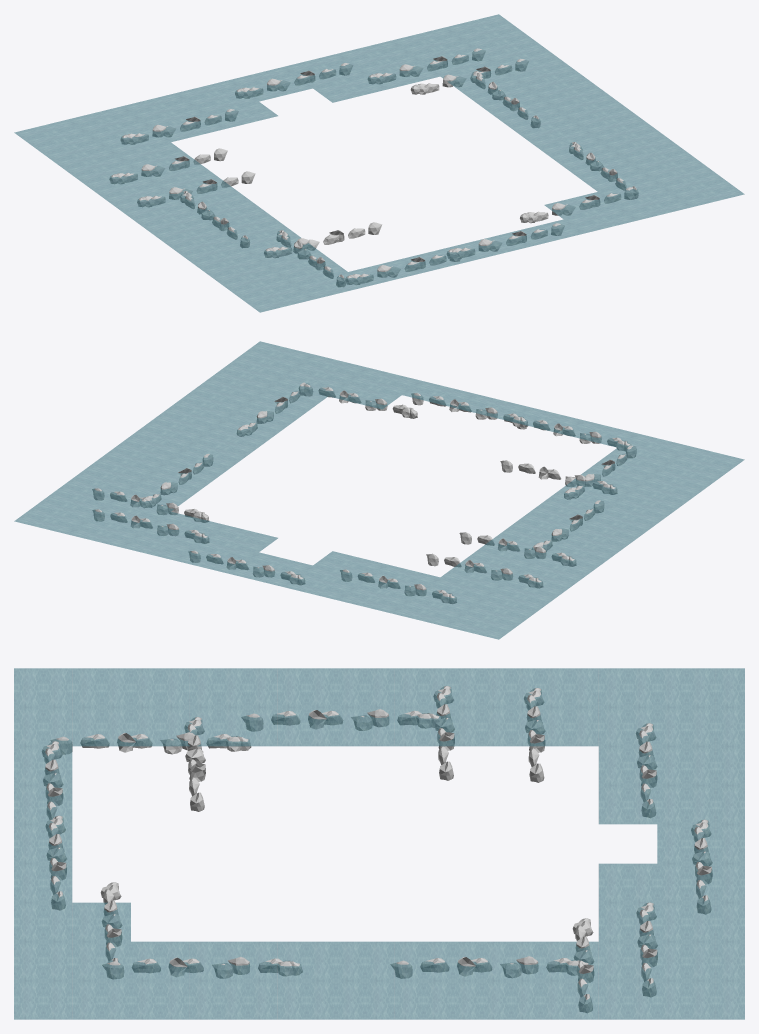
Rendered from jiujinshan_shui.fbx.
The picture shows the model from 3 angles, top to bottom: view 1: azimuth 30°, elevation 25°; view 2: azimuth 150°, elevation 25°; view 3: azimuth 270°, elevation 25°; orthographic projection. The views are drawn at different scales.
Visible parts, largest first — view 1: hengbing_1.017, hengbing_1.007, hengbing_1.008, hengbing_1.009, hengbing_1.010, hengbing_1.012, hengbing_1.005, hengbing_1.003, hengbing_1.006, hengbing_1.011, hengbing_1.004, hengbing_1.014 (+3 smaller); view 2: hengbing_1.017, hengbing_1.003, hengbing_1.007, hengbing_1.005, hengbing_1.006, hengbing_1.012, hengbing_1.010, hengbing_1.008, hengbing_1.009, hengbing_1.011, hengbing_1.004, hengbing_1.014 (+3 smaller); view 3: hengbing_1.017, hengbing_1.013, hengbing_1.015, hengbing_1.014, hengbing_1.016, hengbing_1.007, hengbing_1.010, hengbing_1.009, hengbing_1.003, hengbing_1.008, hengbing_1.006, hengbing_1.005 (+3 smaller).
Part boxes in pixels (left/top/right/bottom): hengbing_1.017: left=14, top=14, right=744, bottom=312; hengbing_1.007: left=109, top=148, right=227, bottom=183; hengbing_1.008: left=120, top=109, right=238, bottom=144; hengbing_1.009: left=235, top=63, right=352, bottom=98; hengbing_1.010: left=368, top=48, right=485, bottom=83; hengbing_1.012: left=520, top=187, right=637, bottom=223; hengbing_1.005: left=264, top=222, right=382, bottom=257; hengbing_1.003: left=447, top=223, right=564, bottom=258; hengbing_1.006: left=137, top=171, right=255, bottom=206; hengbing_1.011: left=410, top=58, right=528, bottom=94; hengbing_1.004: left=346, top=249, right=460, bottom=284; hengbing_1.014: left=471, top=71, right=540, bottom=127; hengbing_1.017: left=14, top=341, right=744, bottom=639; hengbing_1.003: left=411, top=393, right=527, bottom=427; hengbing_1.007: left=426, top=553, right=543, bottom=588; hengbing_1.005: left=500, top=460, right=617, bottom=494; hengbing_1.006: left=459, top=532, right=576, bottom=566; hengbing_1.012: left=303, top=384, right=417, bottom=418; hengbing_1.010: left=92, top=509, right=209, bottom=543; hengbing_1.008: left=340, top=569, right=456, bottom=603; hengbing_1.009: left=188, top=550, right=305, bottom=584; hengbing_1.011: left=92, top=488, right=209, bottom=522; hengbing_1.004: left=517, top=417, right=631, bottom=451; hengbing_1.014: left=141, top=454, right=212, bottom=507; hengbing_1.017: left=14, top=668, right=744, bottom=1019; hengbing_1.013: left=102, top=956, right=302, bottom=979; hengbing_1.015: left=241, top=709, right=440, bottom=731; hengbing_1.014: left=390, top=956, right=589, bottom=978; hengbing_1.016: left=50, top=732, right=251, bottom=754; hengbing_1.007: left=524, top=688, right=545, bottom=782; hengbing_1.010: left=636, top=902, right=657, bottom=997; hengbing_1.009: left=691, top=819, right=712, bottom=914; hengbing_1.003: left=45, top=815, right=66, bottom=910; hengbing_1.008: left=636, top=723, right=657, bottom=817; hengbing_1.006: left=433, top=686, right=454, bottom=780; hengbing_1.005: left=184, top=717, right=205, bottom=811.
Bounding box in the file's own units: 28451 × 768 × 25000.
